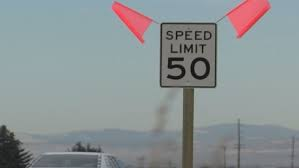speedLimit50: (158, 21, 218, 89)
